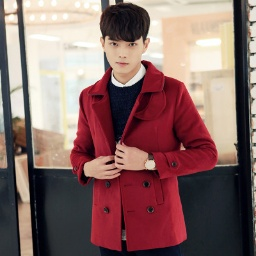face: (99, 3, 151, 74)
